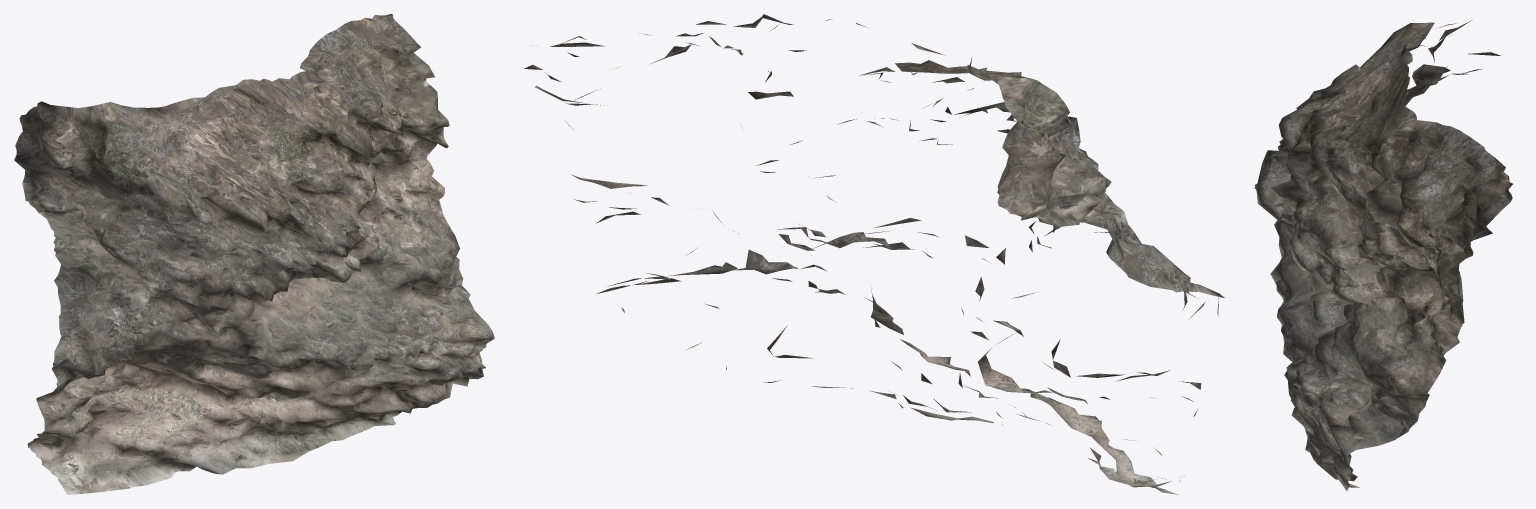
File: cliff_c_lod1.glb
3 views of the same model, side by side, from view 1: azimuth 30°, elevation 25°; view 2: azimuth 150°, elevation 25°; view 3: azimuth 270°, elevation 25° (orthographic). The views are drawn at different scales.
Visible parts, largest first — view 1: cliff_c_lod1; view 2: cliff_c_lod1; view 3: cliff_c_lod1.
Boxes of the visible parts, x1,y1,x2,y2 form: cliff_c_lod1: (14,14,494,494); cliff_c_lod1: (524,14,1224,494); cliff_c_lod1: (1254,20,1512,490).
Bounding box in the file's own units: 32.99 × 23.13 × 16.99.
Materials: 1 (1 with a texture image).
